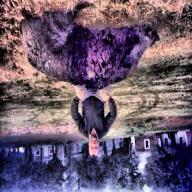boar: (18, 9, 188, 93)
